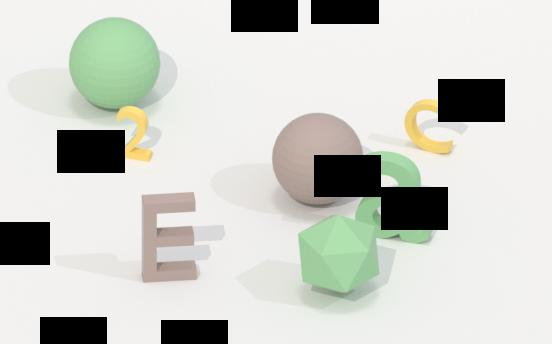2: (112, 101, 156, 166)
E-hoa: (140, 190, 199, 286)
a: (355, 149, 435, 248)
c: (405, 98, 455, 157)
cau: (66, 15, 162, 116), (271, 110, 363, 208)
dagiac: (297, 213, 385, 297)
